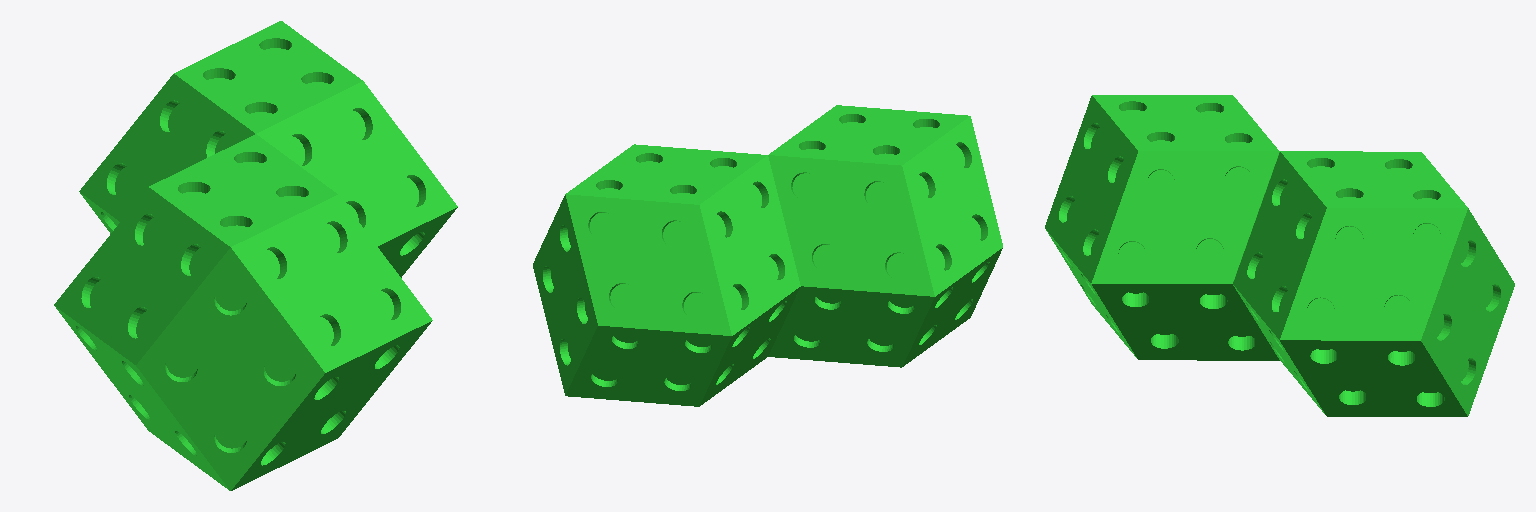
The robot description file, URDF, robot "robot":
<robot name = "robot">
    <link name="Central">
        <inertial>
            <origin xyz="0 0 0" rpy="0 0 0"/>
            <mass value="1.0" />
            <inertia ixx="100" ixy="0" ixz="0" iyy="100" iyz="0" izz="100" />
        </inertial>
        <visual>
            <origin xyz="0 0 0" rpy="0 0 0"/>
            <geometry>
                <mesh filename="RhomDoDeca_mm v9.stl" scale="0.1 0.1 0.1" />
            </geometry>
            <material name="Sensor">
                <color rgba="0.239 0.875 0.282 1.0"/>
            </material>
        </visual>
        <collision>
            <origin xyz="0 0 0" rpy="0 0 0"/>
            <geometry>
                <mesh filename="RhomDoDeca_mm v9.stl" scale="0.1 0.1 0.1" />
            </geometry>
        </collision>
    </link>
    <joint name="Central_Periph" type="fixed">
       <parent link="Central"/>
       <child  link="Periph"/>
       <origin rpy="0 0 0" xyz="2.365 3.3325 0" />
       <axis xyz="1 0 0"/>
       <limit effort="0.0" lower="-3.14159" upper="3.14159" velocity="0.0"/>
    </joint>
    <link name="Periph">
        <inertial>
            <origin xyz="0 0 0" rpy="0 0 0"/>
            <mass value="1.0" />
            <inertia ixx="100" ixy="0" ixz="0" iyy="100" iyz="0" izz="100" />
        </inertial>
        <visual>
            <origin xyz="0 0 0" rpy="0 0 0"/>
            <geometry>
                <mesh filename="RhomDoDeca_mm v9.stl" scale="0.1 0.1 0.1" />
            </geometry>
            <material name="Sensor">
                <color rgba="0.239 0.875 0.282 1.0"/>
            </material>
        </visual>
        <collision>
            <origin xyz="0 0 0" rpy="0 0 0"/>
            <geometry>
                <mesh filename="RhomDoDeca_mm v9.stl" scale="0.1 0.1 0.1" />
            </geometry>
        </collision>
    </link>
</robot>

--- Facts derived from the render (not from the file) ---
The picture shows the robot from 3 angles, left to right: view 1: azimuth 30°, elevation 25°; view 2: azimuth 150°, elevation 25°; view 3: azimuth 270°, elevation 25°; orthographic projection.
Model robot with 2 links and 1 joints (1 fixed), rooted at Central, posed every joint at zero.
Visible links, largest first — view 1: Central, Periph; view 2: Periph, Central; view 3: Periph, Central.
Link boxes in pixels (x1=…): Central: x1=54, y1=134, x2=432, y2=490; Periph: x1=79, y1=21, x2=457, y2=277; Periph: x1=533, y1=144, x2=800, y2=406; Central: x1=768, y1=105, x2=1002, y2=367; Periph: x1=1233, y1=151, x2=1514, y2=416; Central: x1=1045, y1=95, x2=1279, y2=360.
Size in the robot's own frame: 7.08 by 8.33 by 4.08 metres.
2 mesh visuals loaded from 1 distinct referenced files (1 binary STL).